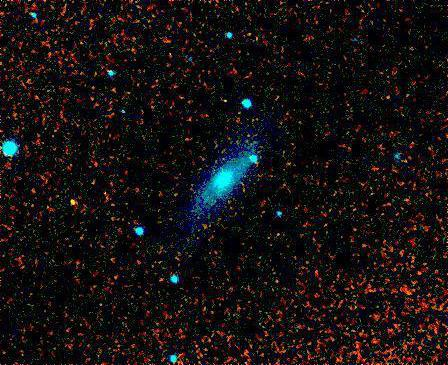star: (55, 189, 85, 219)
